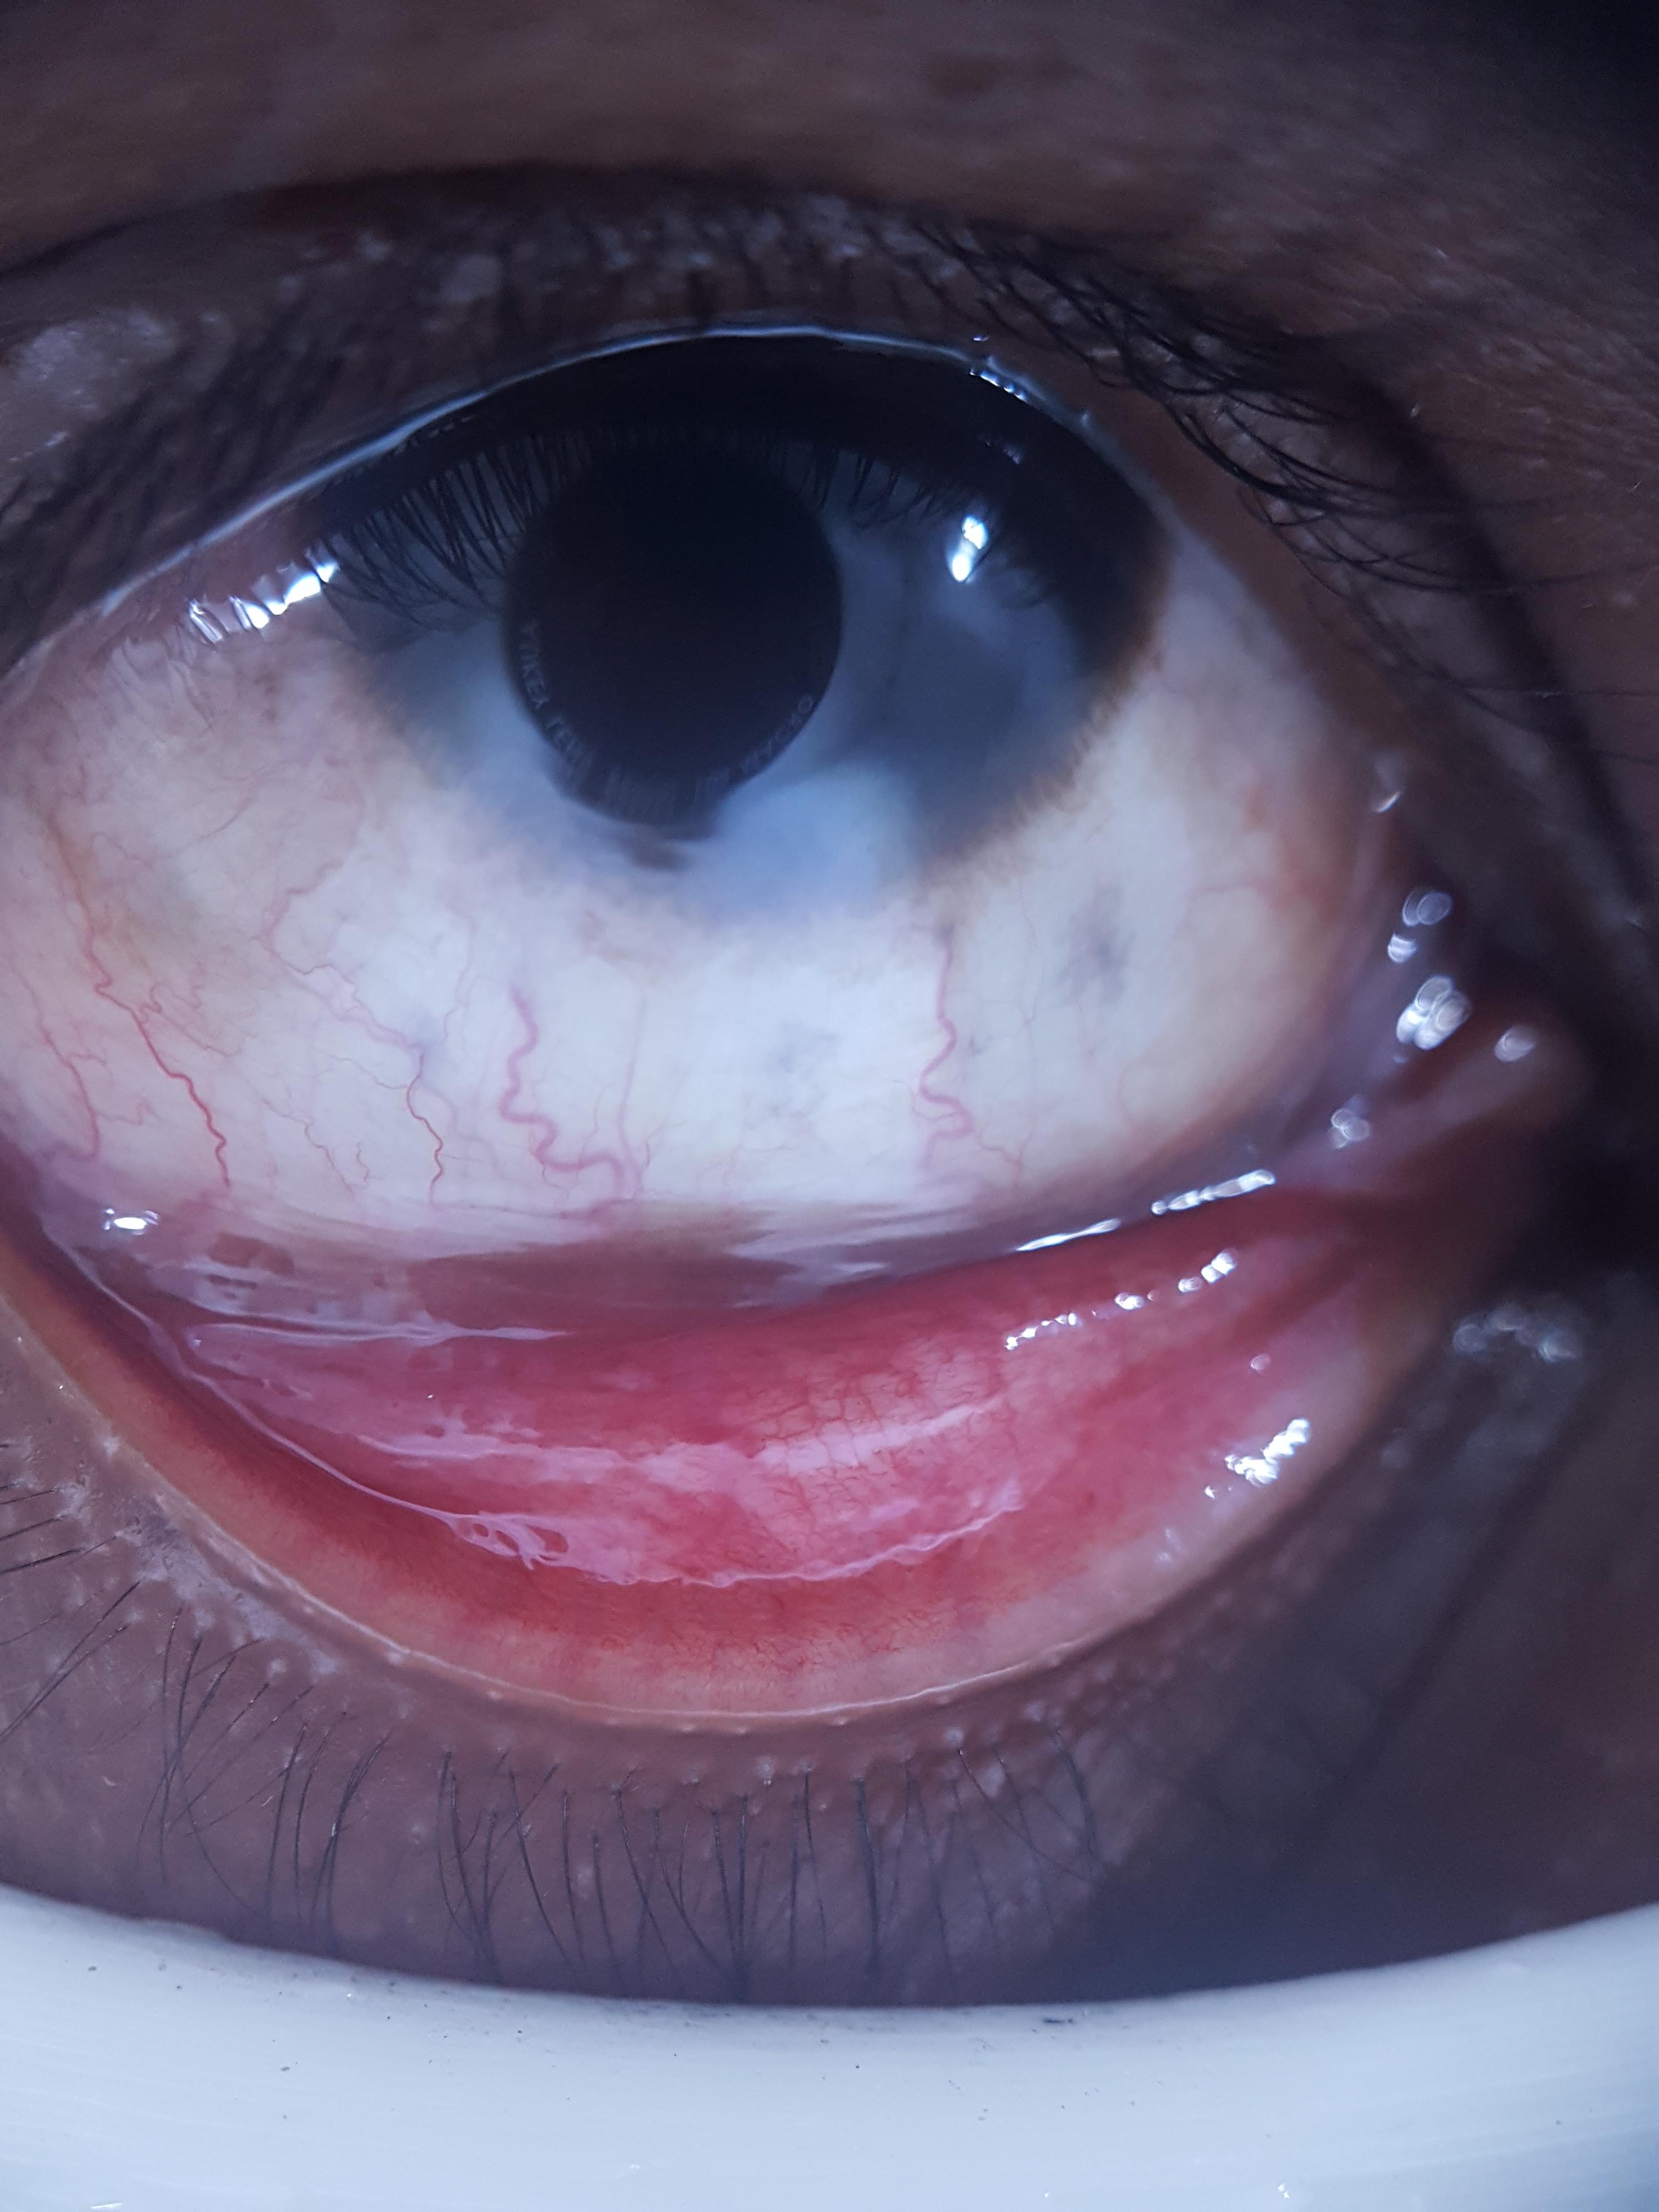forniceal: (9, 1158, 1352, 1585)
forniceal_palpebral: (0, 1143, 1425, 1688)
palpebral: (0, 1158, 1422, 1679)
